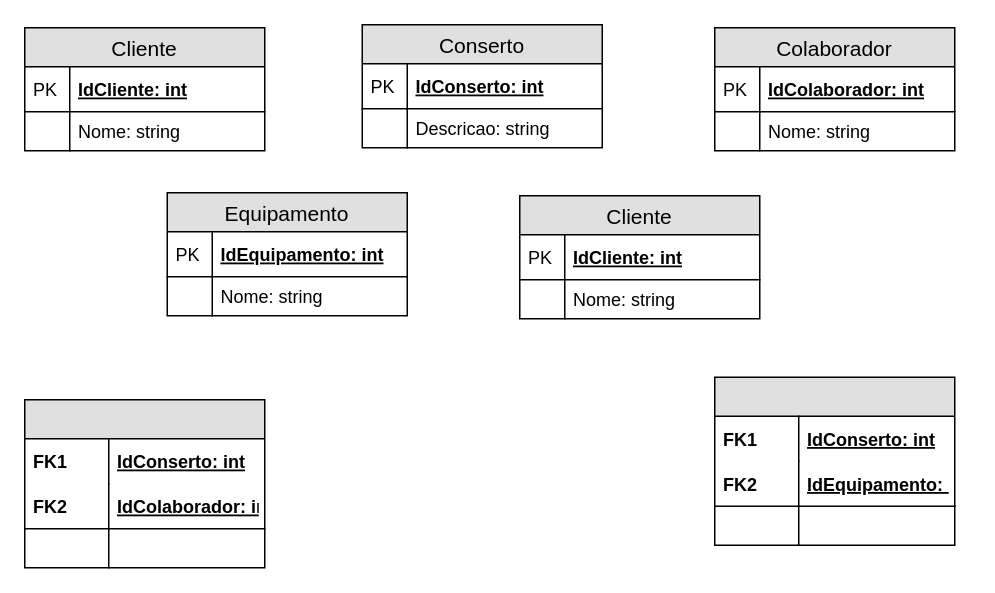
Image size: 995x593. Some labels were removed from this diagram. The shapes that lost their labels are listed below. From the top down, each one's box as (x1, y1, x2, y2) in pixels, then its label:
(713, 376, 955, 545): ConsertoEquipamento
(23, 398, 265, 568): ConsertoColaborador
